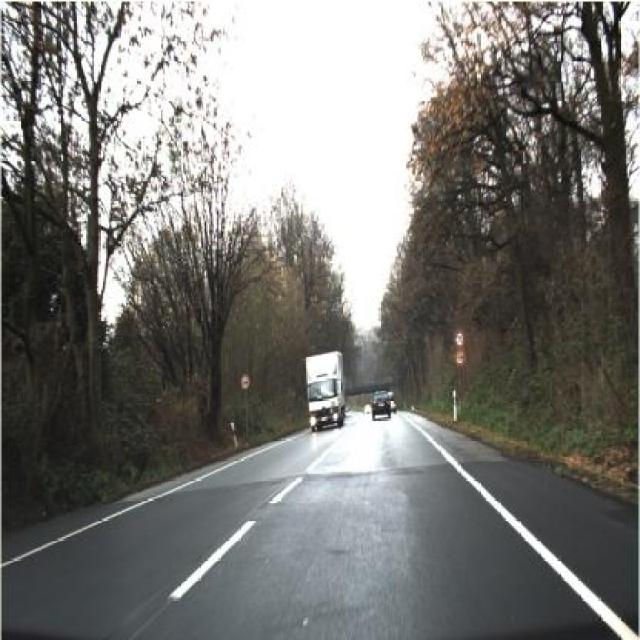forb_speed_over_70: (454, 327, 466, 348)
